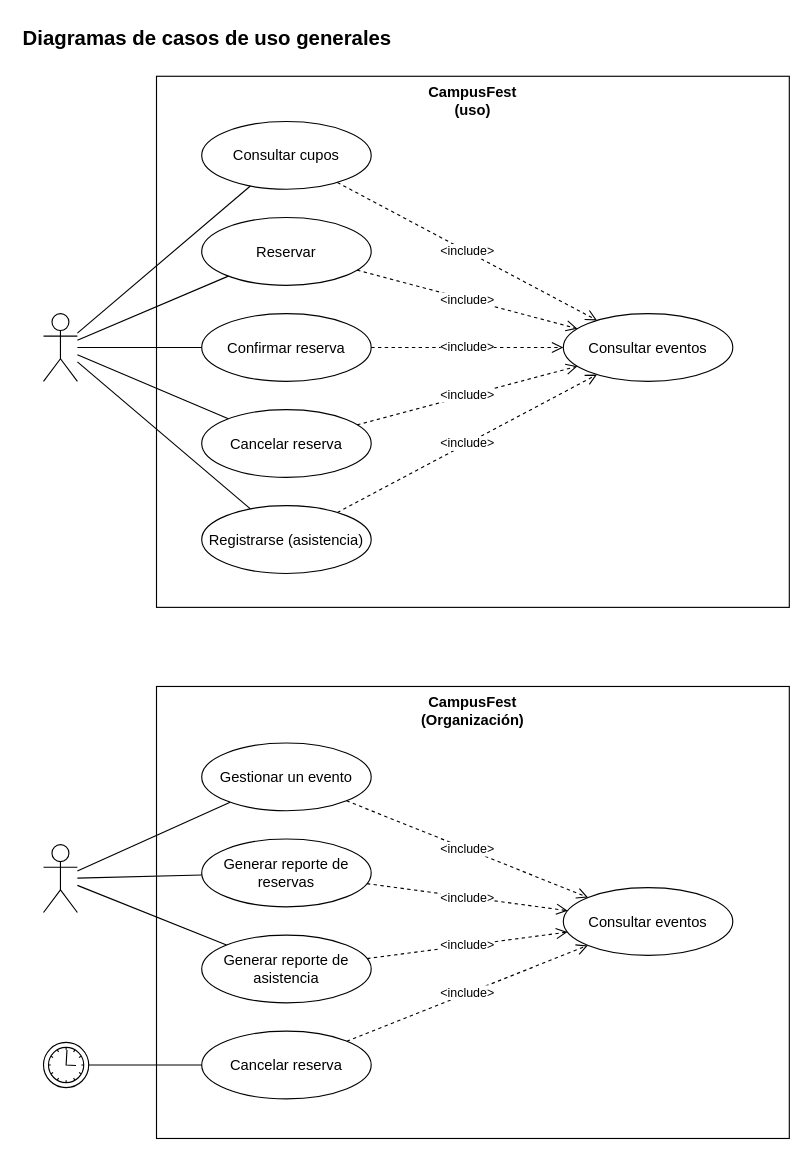
Some shapes in this 809 by 1158 pixel diagram are drawn without their labels. Here are the shapes that lost their labels. From the top down, the centre of each, then its label:
At (x=59, y=346): "Estudiante".
At (x=59, y=878): "Organizador".
At (x=65, y=1064): "10 mins de una reserva".
